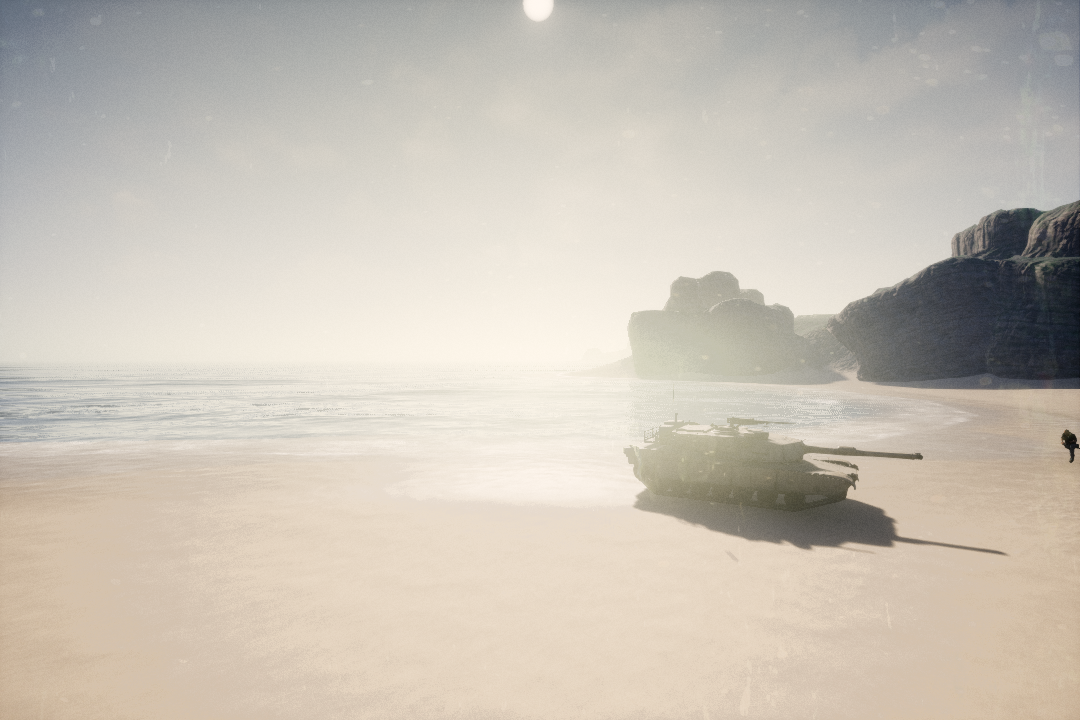person: (1055, 412, 1080, 472)
tank: (614, 392, 925, 513)
